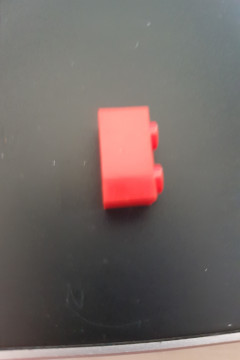1x2 red: (95, 105, 166, 212)
